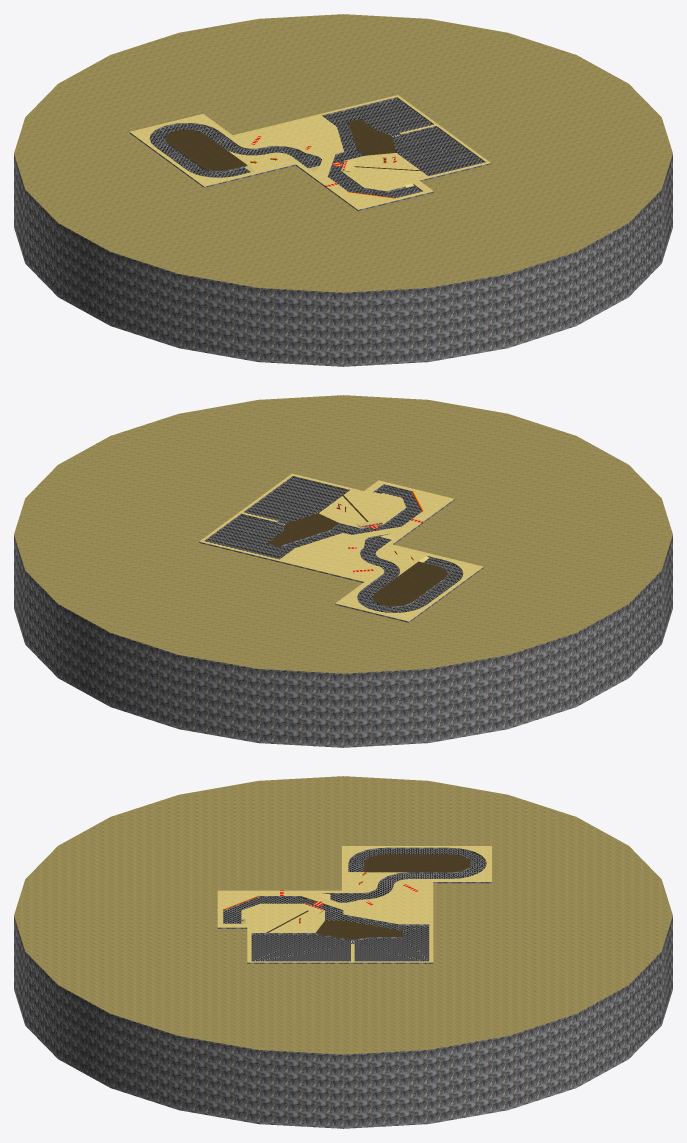
The picture shows the model from 3 angles, top to bottom: view 1: azimuth 30°, elevation 25°; view 2: azimuth 150°, elevation 25°; view 3: azimuth 270°, elevation 25°; orthographic projection.
Parts seen in each view (by area): view 1: brres-SKP--sunaoob.001, brres-SKP--kabe.001, brres-SKP--suna.001, brres-SKP--road.002, brres-SKP--doro.001; view 2: brres-SKP--sunaoob.001, brres-SKP--kabe.001, brres-SKP--suna.001, brres-SKP--road.002, brres-SKP--doro.001; view 3: brres-SKP--sunaoob.001, brres-SKP--kabe.001, brres-SKP--suna.001, brres-SKP--road.002, brres-SKP--doro.001.
Boxes of the visible parts, left/top/right/bottom form: brres-SKP--sunaoob.001: left=14, top=14, right=672, bottom=292; brres-SKP--kabe.001: left=14, top=97, right=672, bottom=366; brres-SKP--suna.001: left=129, top=95, right=490, bottom=209; brres-SKP--road.002: left=150, top=98, right=484, bottom=197; brres-SKP--doro.001: left=165, top=119, right=396, bottom=170; brres-SKP--sunaoob.001: left=14, top=395, right=672, bottom=673; brres-SKP--kabe.001: left=14, top=476, right=672, bottom=747; brres-SKP--suna.001: left=199, top=473, right=483, bottom=621; brres-SKP--road.002: left=205, top=477, right=462, bottom=612; brres-SKP--doro.001: left=267, top=513, right=447, bottom=606; brres-SKP--sunaoob.001: left=14, top=776, right=672, bottom=1054; brres-SKP--kabe.001: left=14, top=847, right=672, bottom=1128; brres-SKP--suna.001: left=217, top=846, right=491, bottom=962; brres-SKP--road.002: left=223, top=849, right=486, bottom=961; brres-SKP--doro.001: left=315, top=854, right=470, bottom=939.
Size of what is drawn, in the model's own units: 140364 by 19073 by 140364.
Materials: 10 (10 with a texture image).
